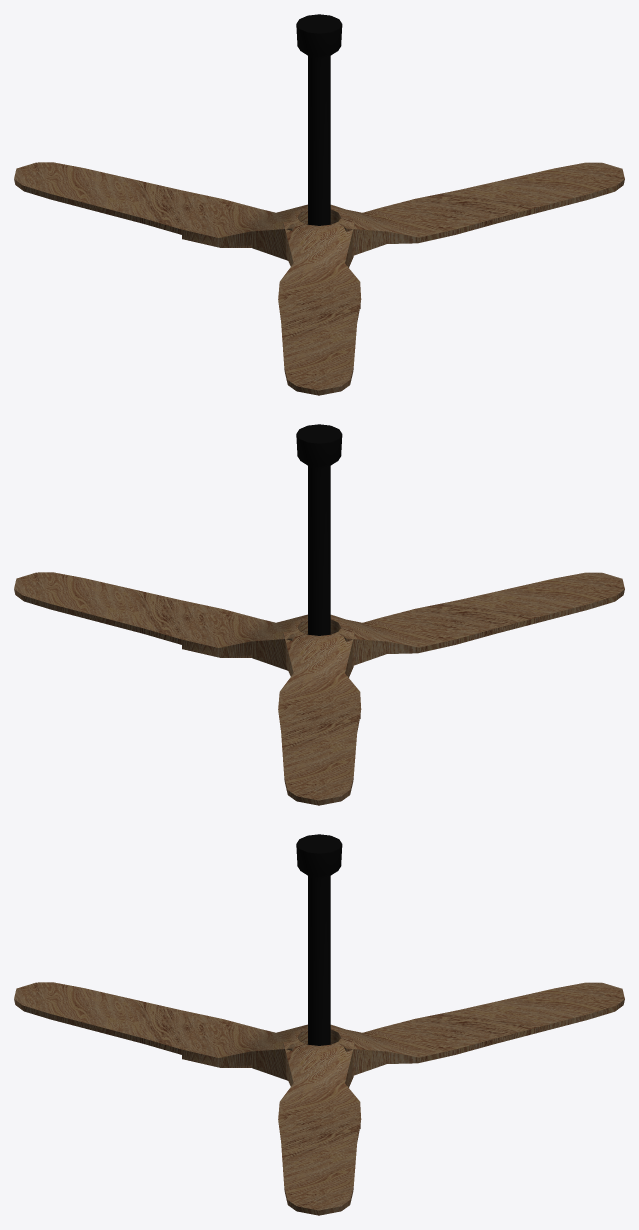
Rendered from Ceiling Fan.fbx.
The picture shows the model from 3 angles, top to bottom: view 1: azimuth 30°, elevation 25°; view 2: azimuth 150°, elevation 25°; view 3: azimuth 270°, elevation 25°; orthographic projection.
Parts seen in each view (by area): view 1: Ceiling_Fan1_pCylinder45; view 2: Ceiling_Fan1_pCylinder45; view 3: Ceiling_Fan1_pCylinder45.
Boxes of the visible parts, x1,y1,x2,y2 form: Ceiling_Fan1_pCylinder45: [14, 14, 624, 395]; Ceiling_Fan1_pCylinder45: [14, 424, 624, 805]; Ceiling_Fan1_pCylinder45: [14, 834, 624, 1215].
Size of the model in its own units: 144 by 67.19 by 163.
